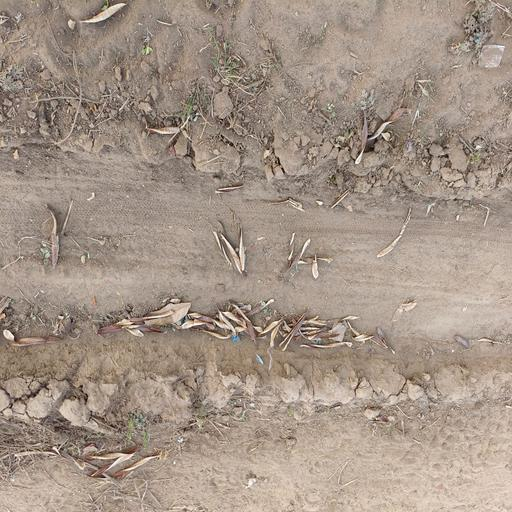vehicle_track: (0, 162, 512, 342)
